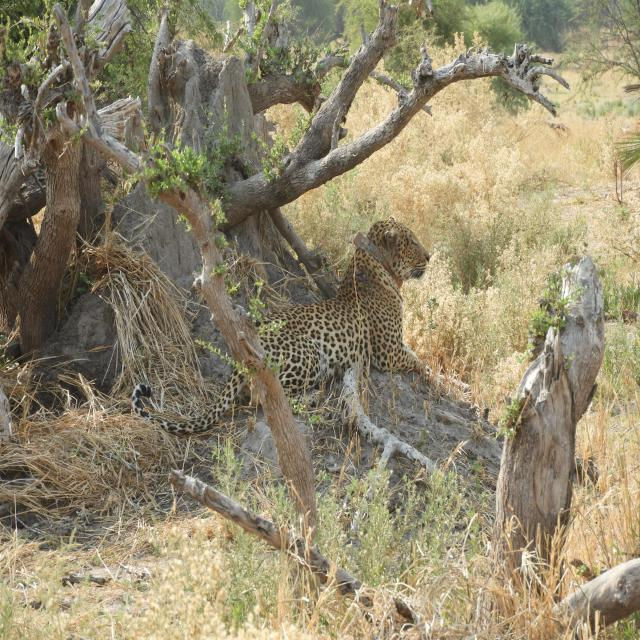Leopard: (186, 226, 454, 445)
